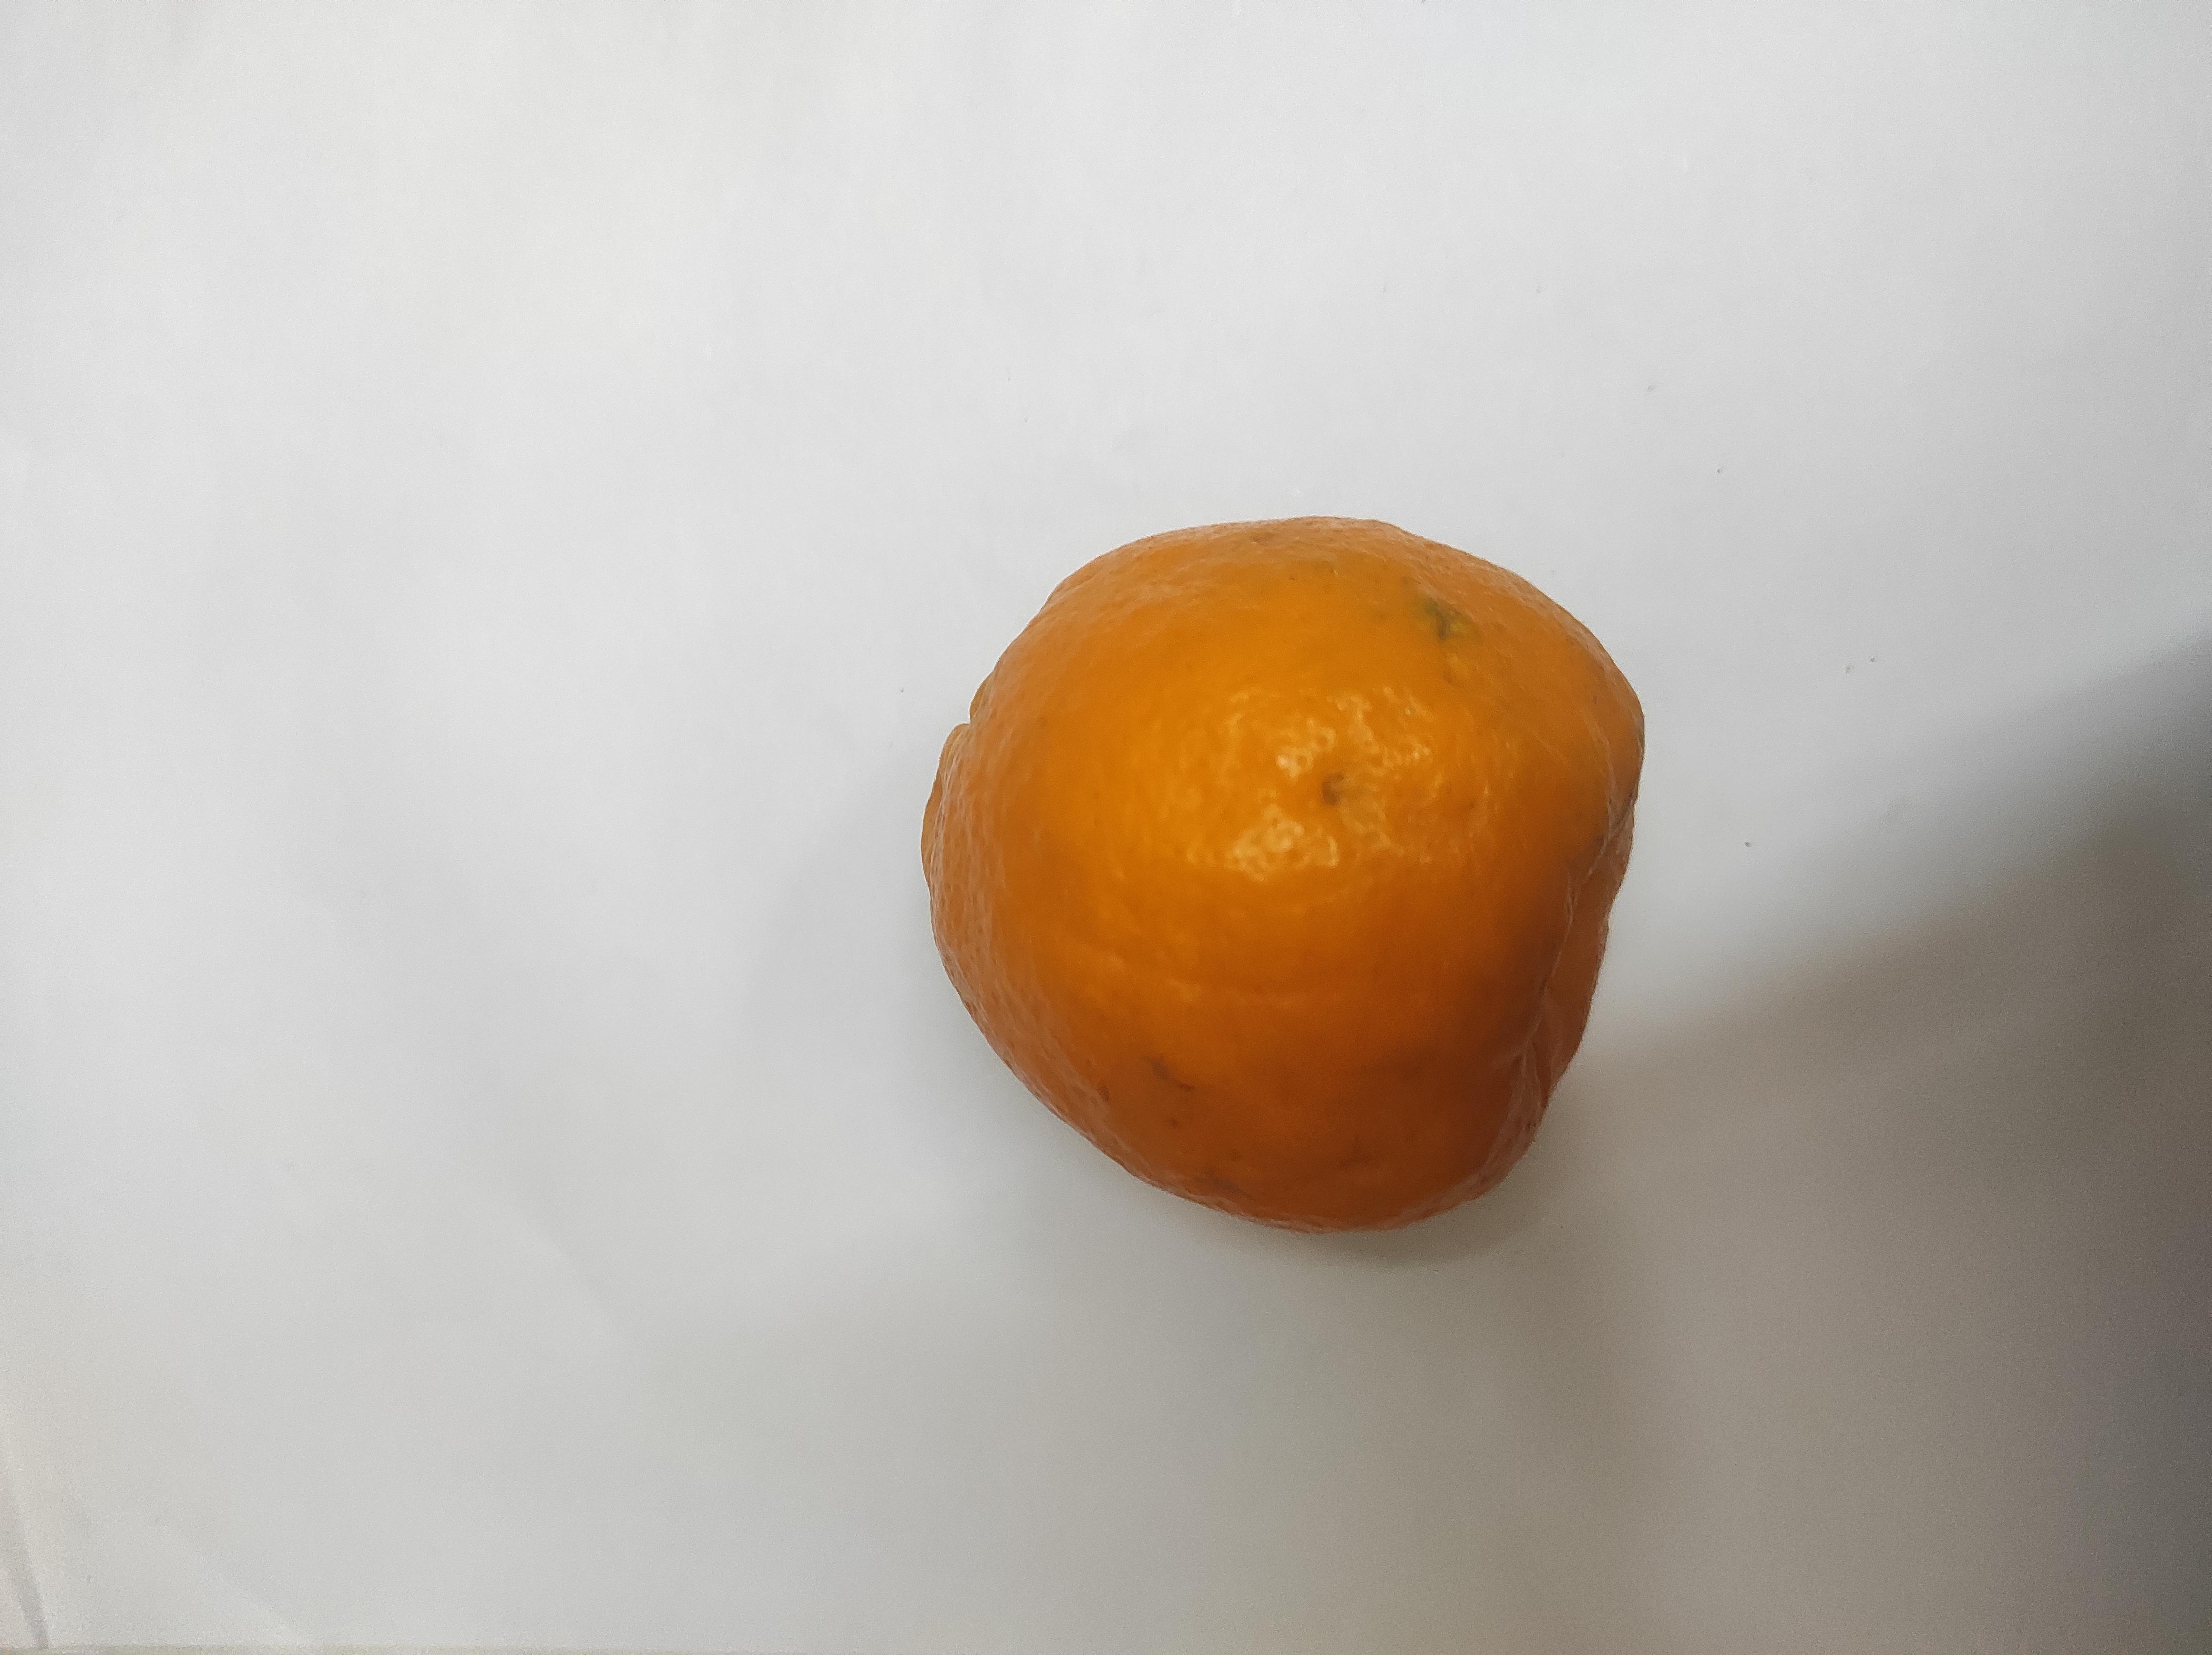Ripe: (920, 528, 1645, 1253)
